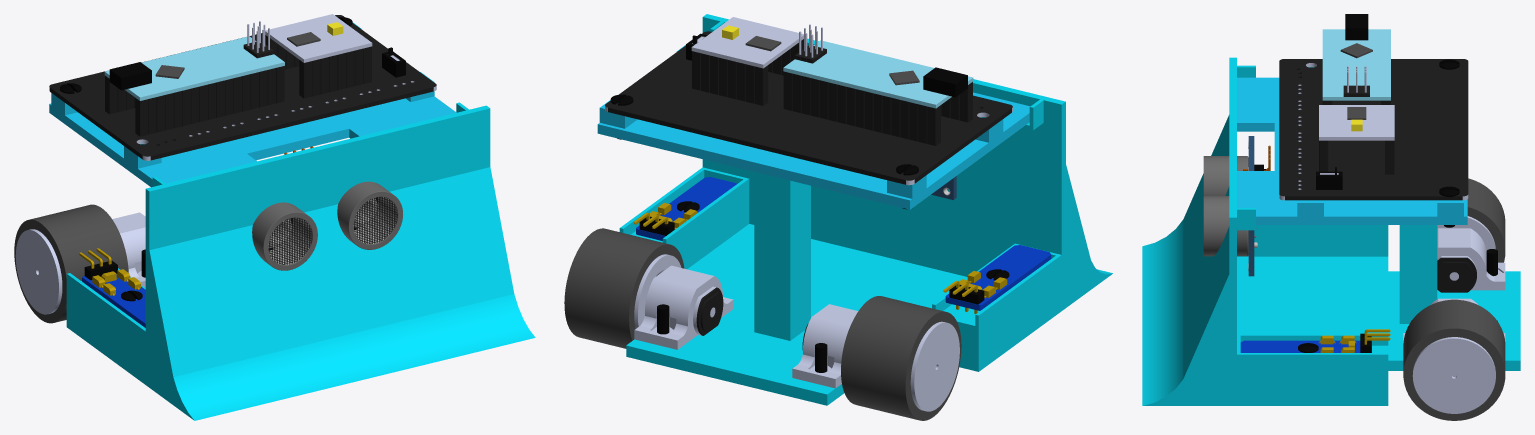
The model's file is MINI SUMO AMATEUR.fbx.
3 views of the same model, side by side, from view 1: azimuth 30°, elevation 25°; view 2: azimuth 150°, elevation 25°; view 3: azimuth 270°, elevation 25° (orthographic). The views are drawn at different scales.
Visible parts, largest first — view 1: blue low gloss plastic, black low gloss plastic-2, blue low gloss plastic-2, dark grey low gloss plastic, blue low gloss plastic-3, color-16, color-11, color-3, color-14, color-21, color-20, color (+3 smaller); view 2: blue low gloss plastic, black low gloss plastic-2, blue low gloss plastic-2, dark grey low gloss plastic, dark grey low gloss plastic.2, blue low gloss plastic-3, color.2, color-11, color-3, color, blue medium gloss plastic, blue medium gloss plastic.2 (+4 smaller); view 3: blue low gloss plastic, black low gloss plastic-2, blue low gloss plastic-2, dark grey low gloss plastic.2, color-3.2, blue low gloss plastic-3, color-16, color-11, color, dark grey low gloss plastic, black low gloss plastic, blue medium gloss plastic.2 (+5 smaller).
Boxes of the visible parts, x1,y1,x2,y2 form: blue low gloss plastic: (66,102,535,420); black low gloss plastic-2: (49,15,436,160); blue low gloss plastic-2: (49,22,456,187); dark grey low gloss plastic: (14,204,128,323); blue low gloss plastic-3: (104,36,284,100); color-16: (252,181,402,270); color-11: (49,14,436,160); color-3: (15,229,62,314); color-14: (268,197,397,264); color-21: (268,217,312,264); color-20: (354,197,397,243); color: (112,212,145,287); blue low gloss plastic: (619,14,1112,405); black low gloss plastic-2: (605,31,1012,184); blue low gloss plastic-2: (597,45,1029,209); dark grey low gloss plastic: (841,296,961,420); dark grey low gloss plastic.2: (564,228,684,348); blue low gloss plastic-3: (783,40,973,108); color.2: (634,265,733,349); color-11: (605,17,1012,185); color-3: (910,321,959,411); color: (792,304,858,388); blue medium gloss plastic: (945,245,1051,310); blue medium gloss plastic.2: (636,177,737,240); blue low gloss plastic: (1142,57,1520,405); black low gloss plastic-2: (1279,59,1468,200); blue low gloss plastic-2: (1237,67,1467,224); dark grey low gloss plastic.2: (1403,299,1505,420); color-3.2: (1412,337,1495,413); blue low gloss plastic-3: (1322,29,1390,100); color-16: (1203,156,1248,256); color-11: (1279,63,1468,200); color: (1437,228,1505,290); dark grey low gloss plastic: (1467,178,1505,262); black low gloss plastic: (1437,257,1476,292); blue medium gloss plastic.2: (1240,340,1371,352).
Size of the model in its own units: 10 by 8.12 by 10.
